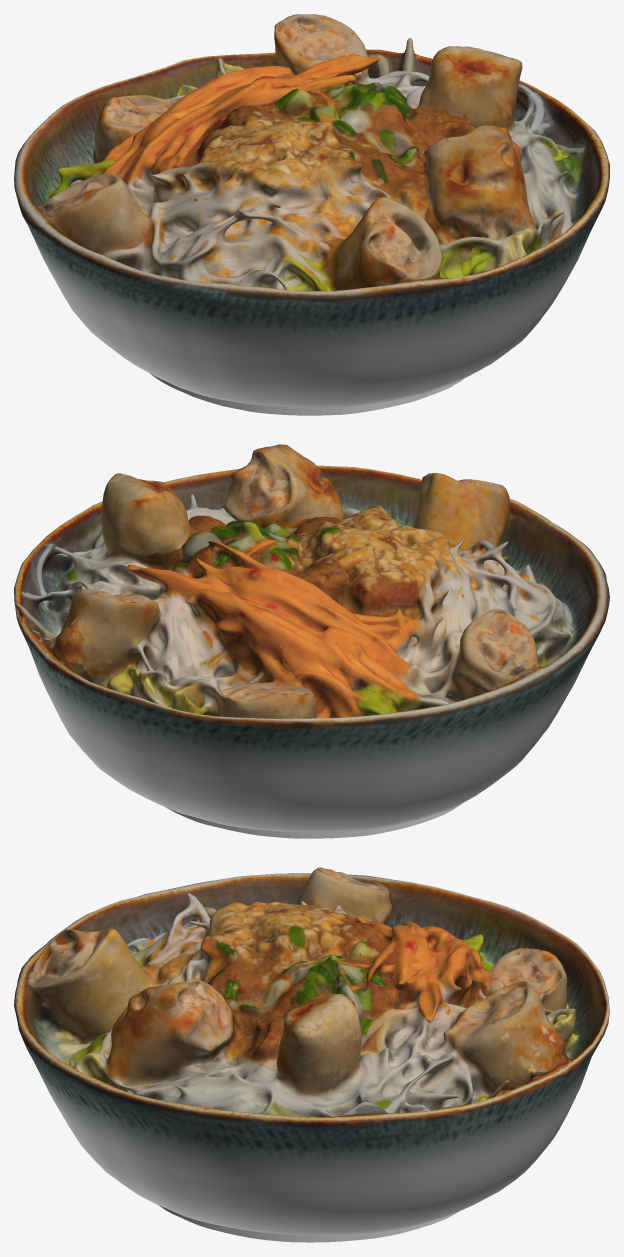
The model's file is 09_Bobun.glb.
3 renders of one model, top to bottom at view 1: azimuth 30°, elevation 25°; view 2: azimuth 150°, elevation 25°; view 3: azimuth 270°, elevation 25°, orthographic.
Parts seen in each view (by area): view 1: Final; view 2: Final; view 3: Final.
Part boxes in pixels (x1,y1,x2,y2): Final: (14, 14, 609, 415); Final: (14, 444, 609, 838); Final: (14, 867, 609, 1242).
Size of the model in its own units: 0.1977 by 0.0904 by 0.1974.
Materials: 1 (1 with a texture image).
